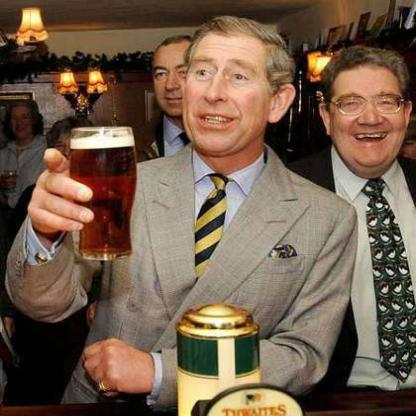face: (181, 17, 274, 155), (329, 53, 408, 170), (148, 38, 203, 118), (8, 102, 35, 139)
